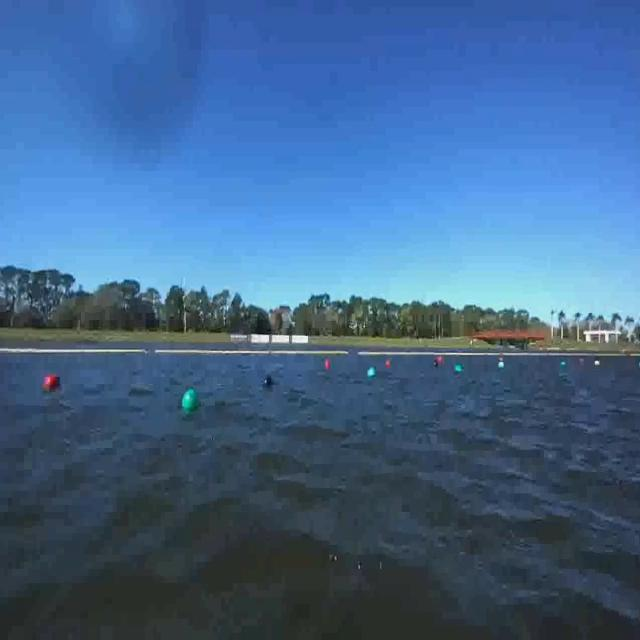black-buoy: (262, 374, 278, 393)
green-buoy: (185, 391, 203, 416), (366, 366, 375, 378)
red-buoy: (44, 376, 60, 393), (436, 356, 442, 365), (386, 360, 391, 368)
red-column-buoy: (327, 359, 333, 370)
